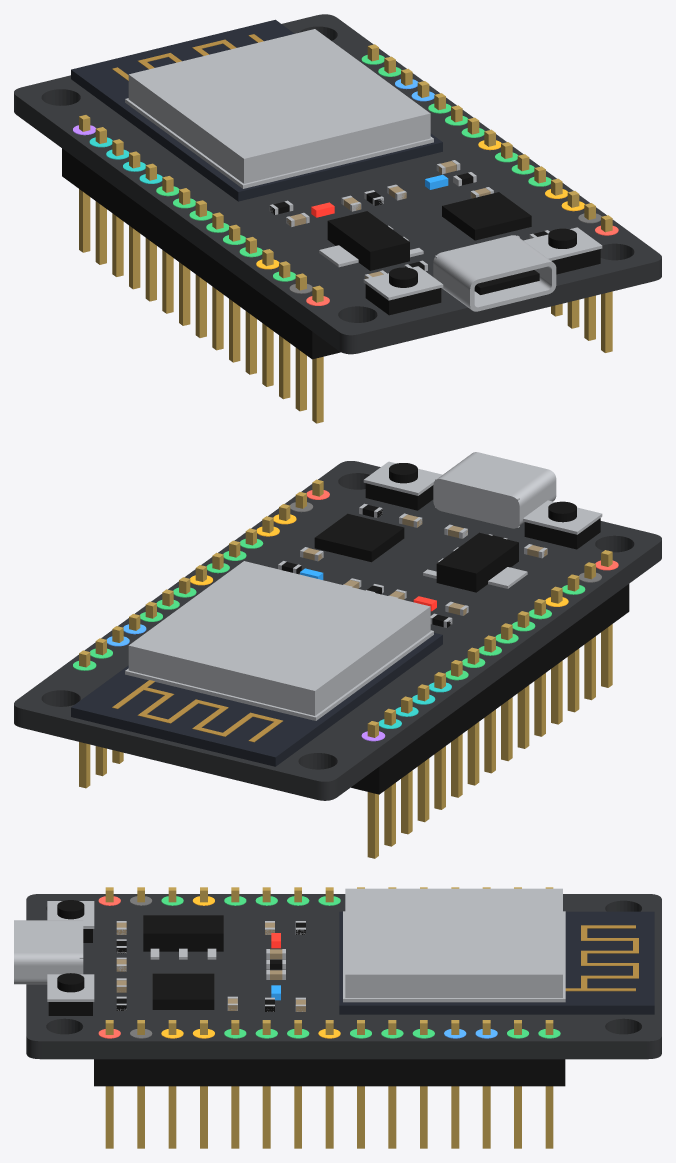
The model's file is esp32-devkit-v1.glb.
The picture shows the model from 3 angles, top to bottom: view 1: azimuth 30°, elevation 25°; view 2: azimuth 150°, elevation 25°; view 3: azimuth 270°, elevation 25°; orthographic projection. The views are drawn at different scales.
Visible parts, largest first — view 1: pcb, module_shield, module_pcb, header_plastic_L, micro_usb_shell, ldo_body, bridge_body, module_shield_lip, button_en_base, button_en_frame, button_boot_frame, pin_L15_VIN (+18 smaller); view 2: pcb, module_shield, module_pcb, header_plastic_L, micro_usb_shell, ldo_body, bridge_body, micro_usb_back, module_shield_lip, button_en_base, button_en_frame, button_boot_frame (+17 smaller); view 3: pcb, module_shield, header_plastic_R, module_pcb, micro_usb_shell, ldo_body, bridge_body, module_shield_lip, button_boot_frame, pin_R01_GPIO23, pin_R03_GPIO1, pin_R04_GPIO3 (+16 smaller).
Boxes of the visible parts, x1=… form: pcb: x1=14, y1=14, x2=661, y2=354; module_shield: x1=128, y1=29, x2=430, y2=183; module_pcb: x1=71, y1=19, x2=442, y2=201; header_plastic_L: x1=62, y1=148, x2=340, y2=359; micro_usb_shell: x1=433, y1=235, x2=556, y2=311; ldo_body: x1=327, y1=211, x2=409, y2=270; bridge_body: x1=442, y1=192, x2=531, y2=240; module_shield_lip: x1=125, y1=98, x2=433, y2=188; button_en_base: x1=365, y1=284, x2=441, y2=315; button_en_frame: x1=363, y1=266, x2=443, y2=300; button_boot_frame: x1=523, y1=227, x2=602, y2=260; pin_L15_VIN: x1=312, y1=285, x2=323, y2=423; pcb: x1=14, y1=461, x2=661, y2=800; module_shield: x1=128, y1=561, x2=430, y2=715; module_pcb: x1=71, y1=632, x2=442, y2=766; header_plastic_L: x1=351, y1=584, x2=629, y2=794; micro_usb_shell: x1=433, y1=452, x2=556, y2=528; ldo_body: x1=436, y1=532, x2=518, y2=592; bridge_body: x1=314, y1=513, x2=404, y2=562; micro_usb_back: x1=435, y1=478, x2=519, y2=527; module_shield_lip: x1=125, y1=630, x2=433, y2=720; button_en_base: x1=524, y1=518, x2=600, y2=549; button_en_frame: x1=523, y1=500, x2=602, y2=534; button_boot_frame: x1=363, y1=461, x2=442, y2=495; pcb: x1=26, y1=894, x2=661, y2=1059; module_shield: x1=345, y1=888, x2=562, y2=997; header_plastic_R: x1=94, y1=1059, x2=565, y2=1086; module_pcb: x1=339, y1=911, x2=654, y2=1014; micro_usb_shell: x1=14, y1=920, x2=83, y2=984; ldo_body: x1=143, y1=915, x2=223, y2=951; bridge_body: x1=152, y1=973, x2=214, y2=1009; module_shield_lip: x1=343, y1=911, x2=565, y2=1002; button_boot_frame: x1=47, y1=974, x2=94, y2=1001; pin_R01_GPIO23: x1=545, y1=1020, x2=553, y2=1148; pin_R03_GPIO1: x1=482, y1=1020, x2=490, y2=1148; pin_R04_GPIO3: x1=451, y1=1020, x2=459, y2=1148.
Size of the model in its own units: 0.0282 by 0.0133 by 0.0524.
